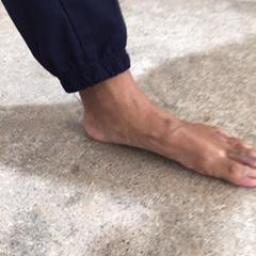Medial View -Left Foot-: (62, 68, 255, 198)
